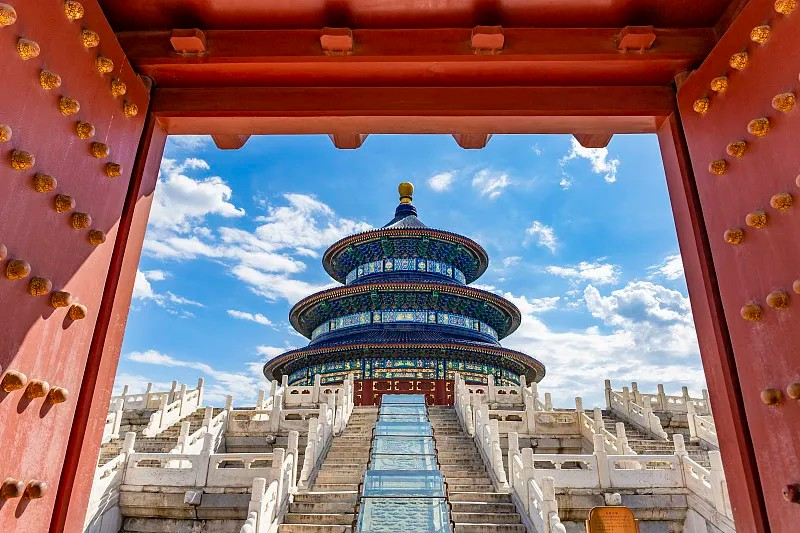Heaven: (262, 182, 546, 407)
